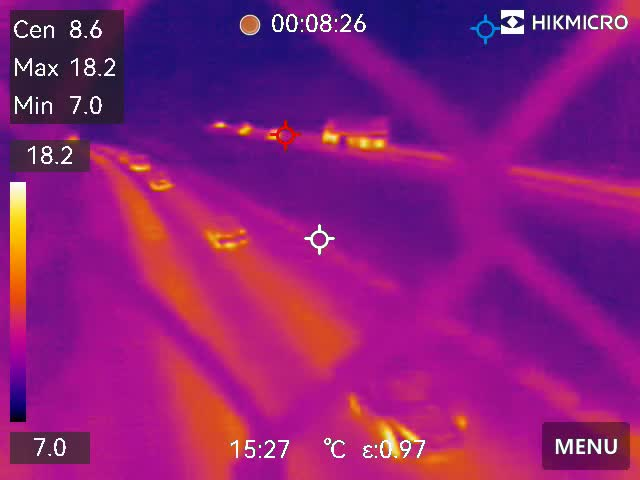heavyTruck: (321, 112, 390, 152)
vehicle: (203, 210, 247, 253), (149, 174, 178, 191)
